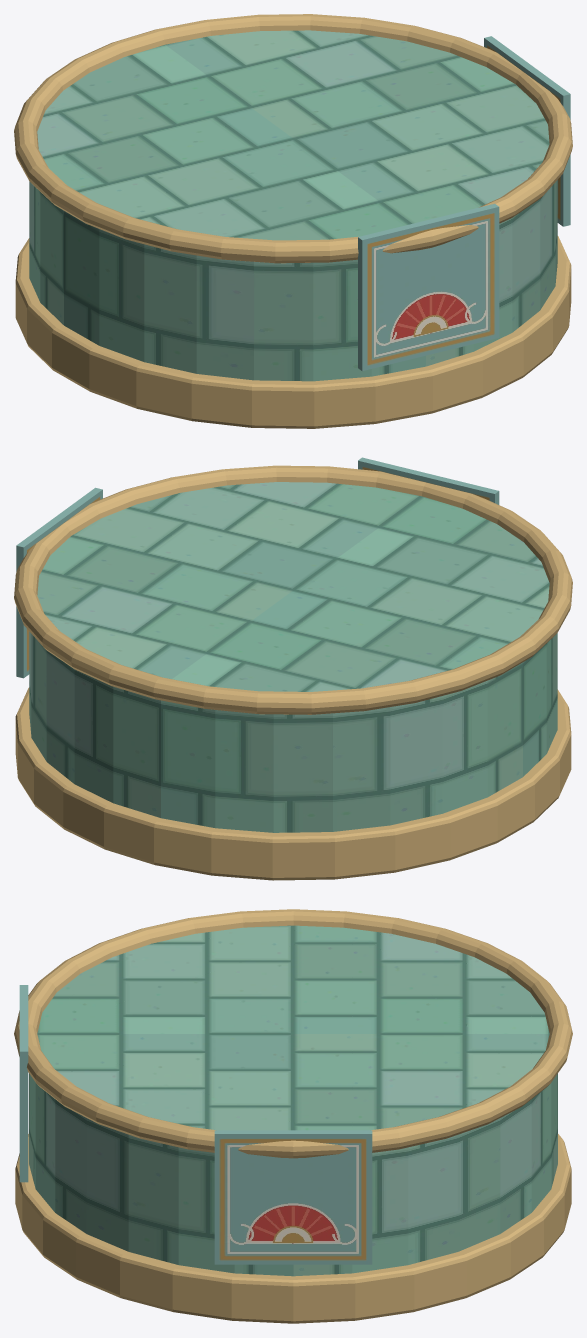
The model's file is act1_col_plinth.glb.
3 views of the same model, one above another, from view 1: azimuth 30°, elevation 25°; view 2: azimuth 150°, elevation 25°; view 3: azimuth 270°, elevation 25° (orthographic).
Visible parts, largest first — view 1: SM_Act1_ColPlinth_Mesh; view 2: SM_Act1_ColPlinth_Mesh; view 3: SM_Act1_ColPlinth_Mesh.
Boxes of the visible parts, x1=… form: SM_Act1_ColPlinth_Mesh: x1=14, y1=14, x2=572, y2=428; SM_Act1_ColPlinth_Mesh: x1=14, y1=457, x2=572, y2=880; SM_Act1_ColPlinth_Mesh: x1=14, y1=909, x2=572, y2=1323.
Bounding box in the file's own units: 1.63 × 0.61 × 1.63.
3 materials, 2 textured.
